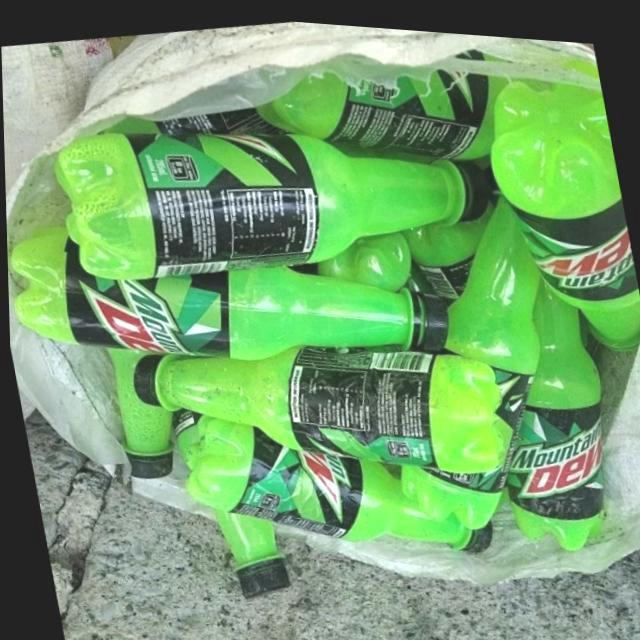plastic_bottle: (51, 128, 492, 278), (8, 227, 448, 356), (397, 186, 538, 521), (130, 339, 502, 465), (489, 71, 640, 342), (183, 414, 492, 546), (504, 274, 602, 541), (272, 62, 490, 153), (104, 345, 172, 476), (212, 504, 287, 595), (170, 405, 208, 466)
